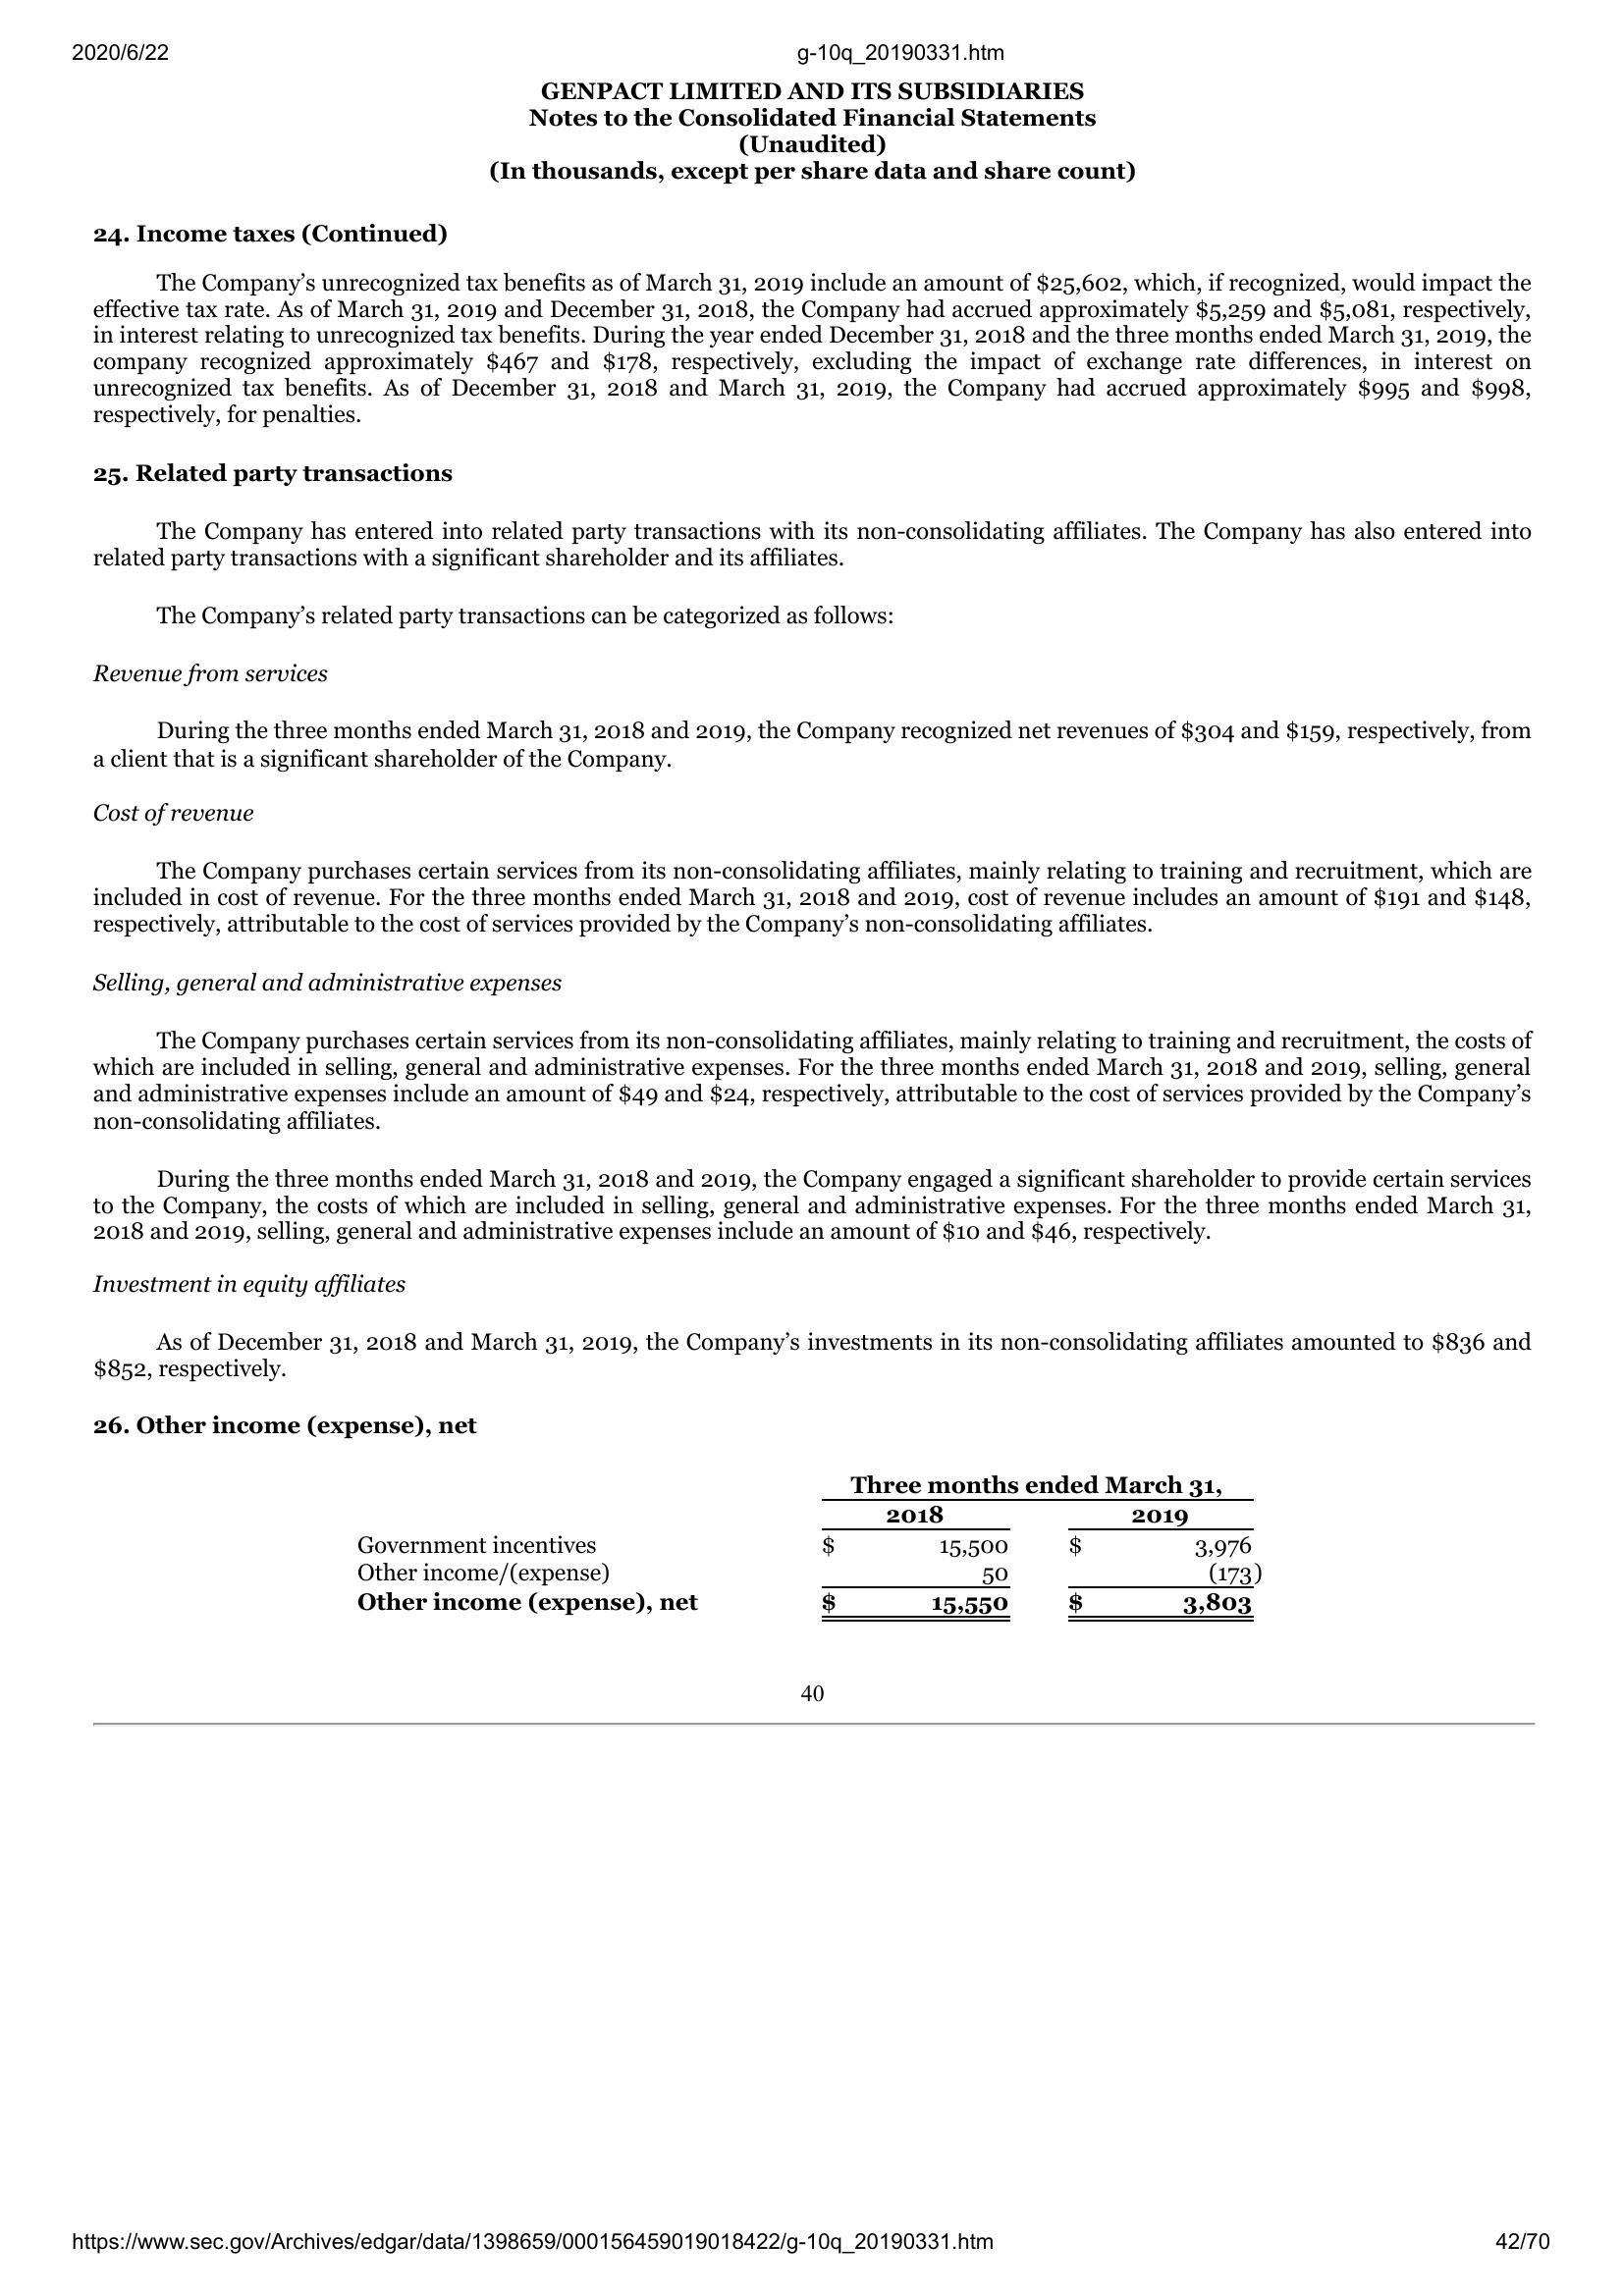table: (348, 1460, 1268, 1629)
